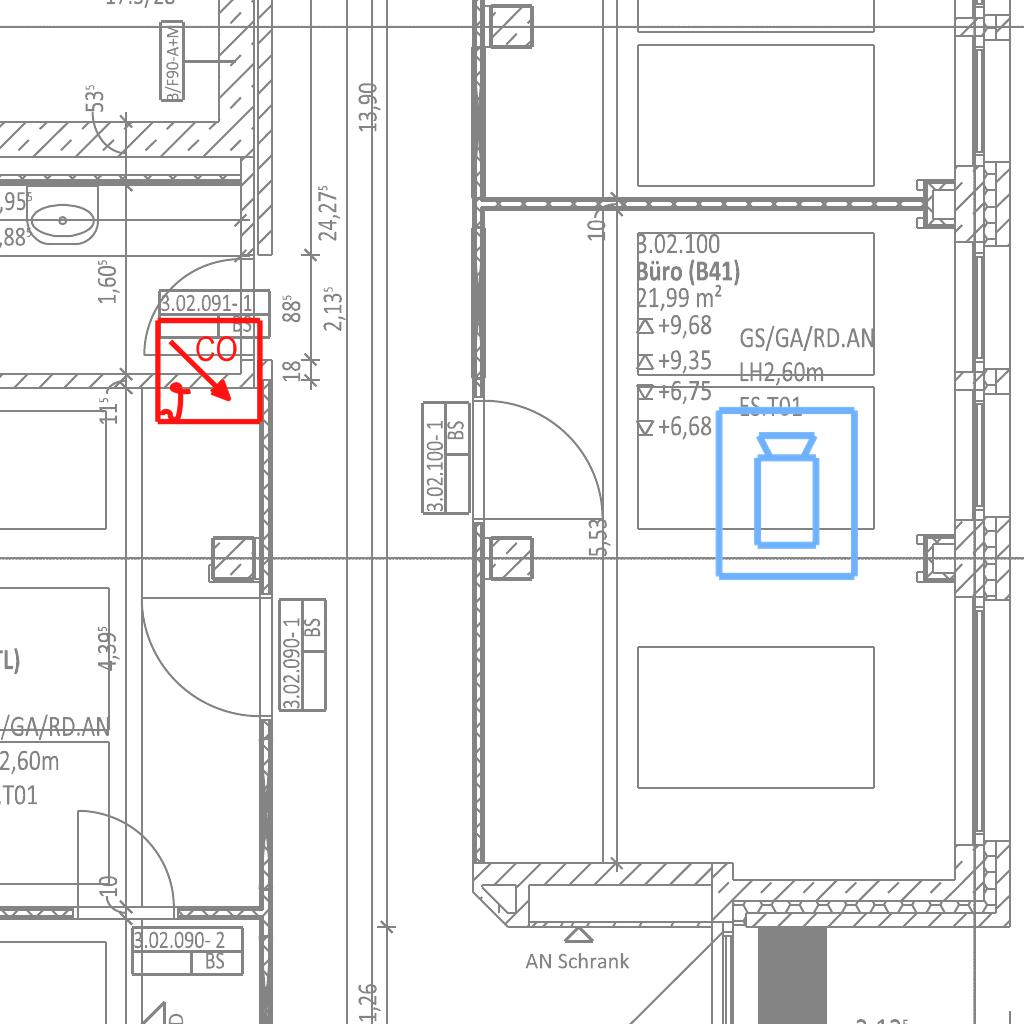KFO_Kamera_mit_Festobjektiv: (711, 403, 865, 585)
ROA_Rauchmelder_optisch_mit_Signalgeber_(Sockelsirene): (153, 316, 266, 429)
